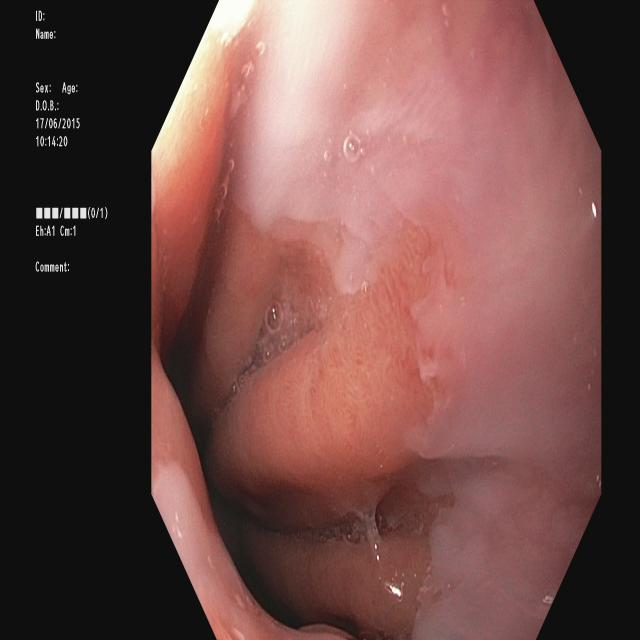Normal-Z-Line: (150, 11, 444, 640)
